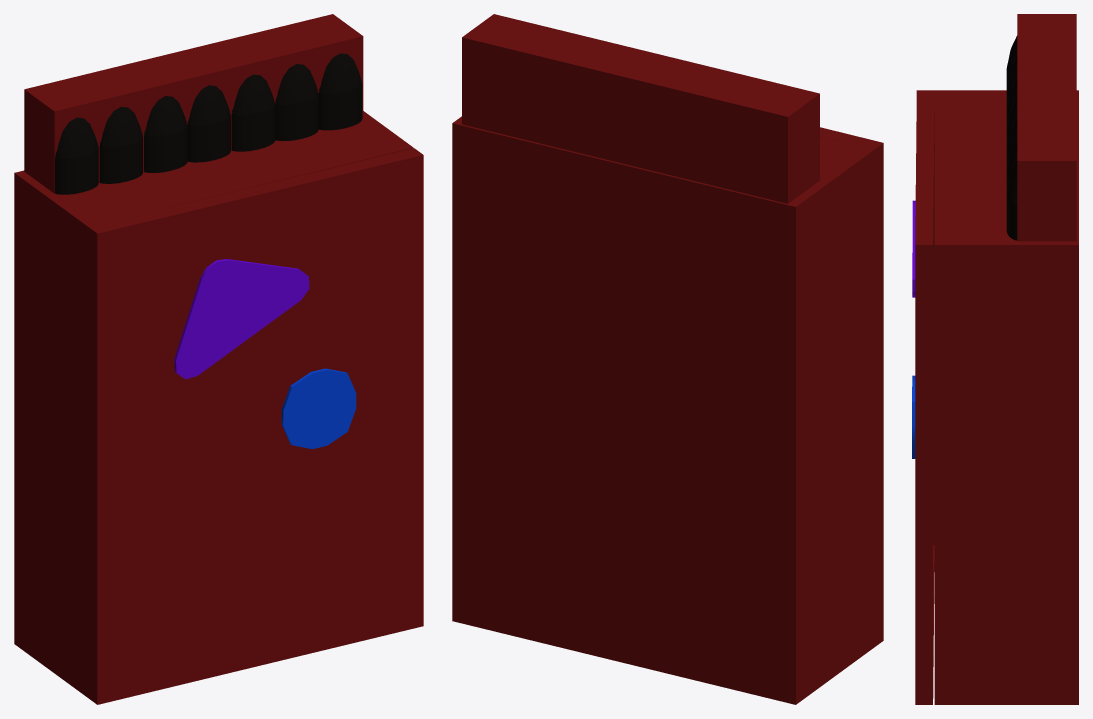
The model's file is SM_ELectrical_Panel.fbx.
3 renders of one model, left to right at view 1: azimuth 30°, elevation 25°; view 2: azimuth 150°, elevation 25°; view 3: azimuth 270°, elevation 25°, orthographic. The views are drawn at different scales.
Parts seen in each view (by area): view 1: polySurface81, polySurface90; view 2: polySurface90, polySurface81; view 3: polySurface90, polySurface81.
Boxes of the visible parts, x1,y1,x2,y2 form: polySurface81: (88, 148, 423, 704); polySurface90: (14, 14, 413, 697); polySurface90: (452, 14, 873, 704); polySurface81: (820, 127, 883, 647); polySurface90: (934, 14, 1078, 704); polySurface81: (912, 90, 934, 704).
Size of the model in its own units: 54.5 by 88.62 by 24.83.
